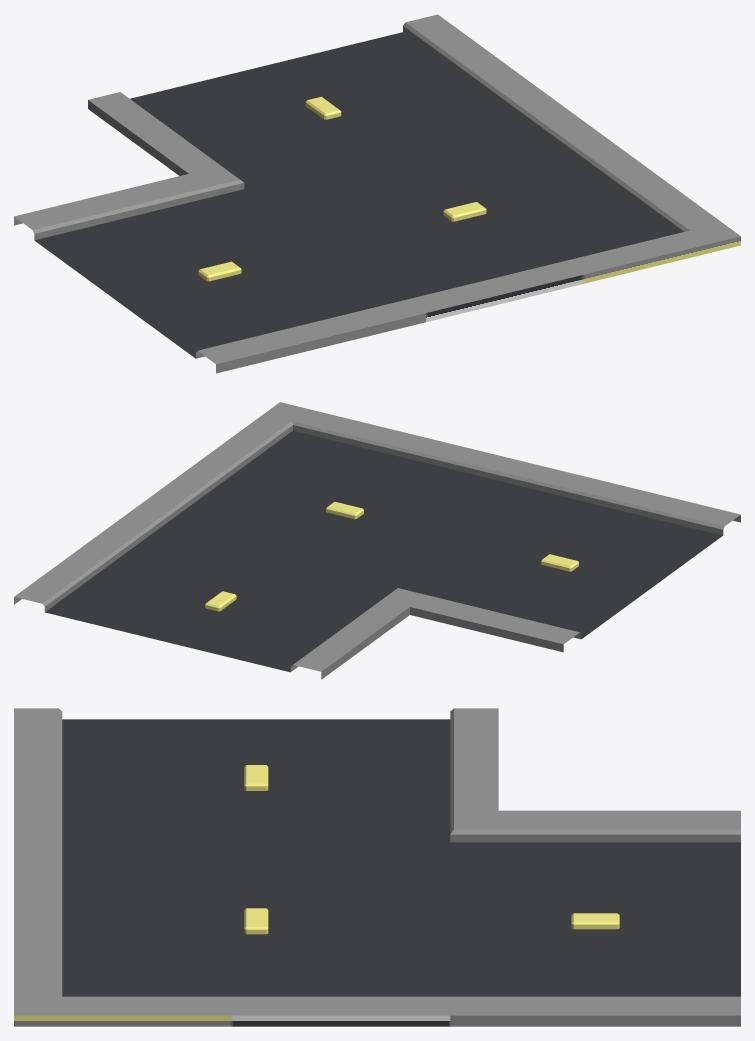
The model's file is Turn_PieceRoad.fbx.
3 views of the same model, one above another, from view 1: azimuth 30°, elevation 25°; view 2: azimuth 150°, elevation 25°; view 3: azimuth 270°, elevation 25° (orthographic). The views are drawn at different scales.
Parts seen in each view (by area): view 1: pPlane65; view 2: pPlane65; view 3: pPlane65.
Part boxes in pixels (left/top/right/bottom): pPlane65: left=14, top=14, right=740, bottom=373; pPlane65: left=14, top=402, right=740, bottom=679; pPlane65: left=14, top=708, right=740, bottom=1026.
Bounding box in the file's own units: 15 × 0.4 × 15.
